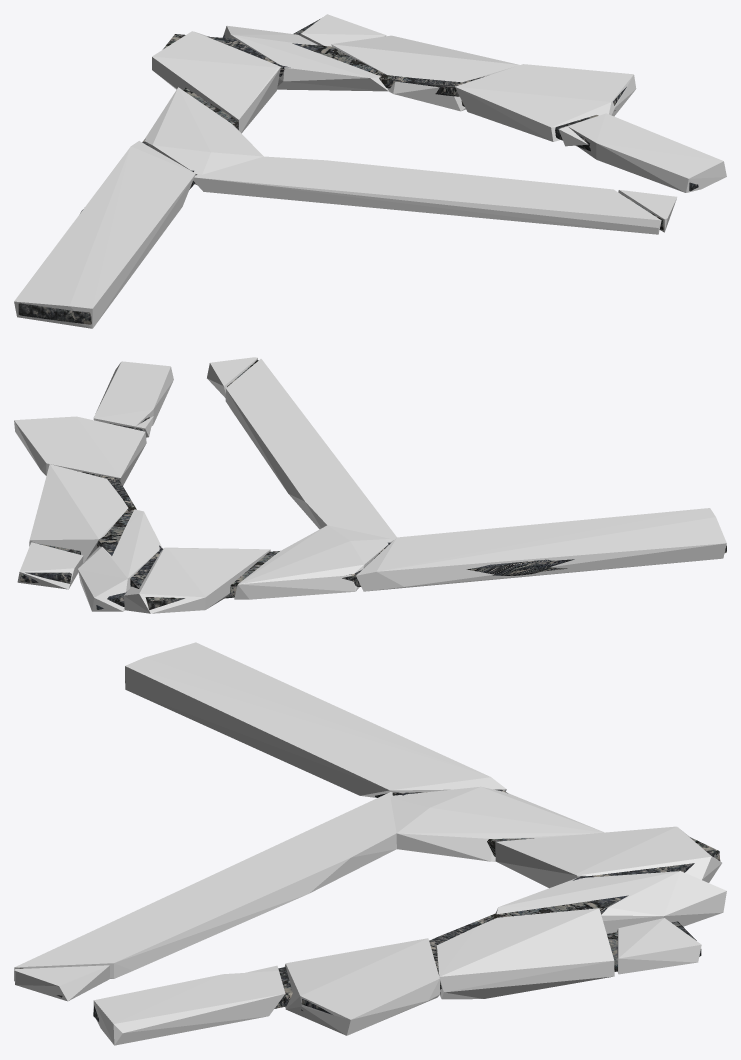
The model's file is SM_wood_debris_02.fbx.
3 views of the same model, one above another, from view 1: azimuth 30°, elevation 25°; view 2: azimuth 150°, elevation 25°; view 3: azimuth 270°, elevation 25° (orthographic). The views are drawn at different scales.
Visible parts, largest first — view 1: SM_wood_debris_02_ConvexHulls, SM_wood_debris_02_LOD0; view 2: SM_wood_debris_02_ConvexHulls, SM_wood_debris_02_LOD0; view 3: SM_wood_debris_02_ConvexHulls, SM_wood_debris_02_LOD0.
Part boxes in pixels (bbox=[...]): SM_wood_debris_02_ConvexHulls: bbox=[14, 14, 726, 328]; SM_wood_debris_02_LOD0: bbox=[18, 18, 698, 324]; SM_wood_debris_02_ConvexHulls: bbox=[14, 357, 726, 613]; SM_wood_debris_02_LOD0: bbox=[20, 360, 726, 609]; SM_wood_debris_02_ConvexHulls: bbox=[14, 642, 726, 1045]; SM_wood_debris_02_LOD0: bbox=[20, 681, 720, 1021].
Size of the model in its own units: 347 by 268 by 14.61.
